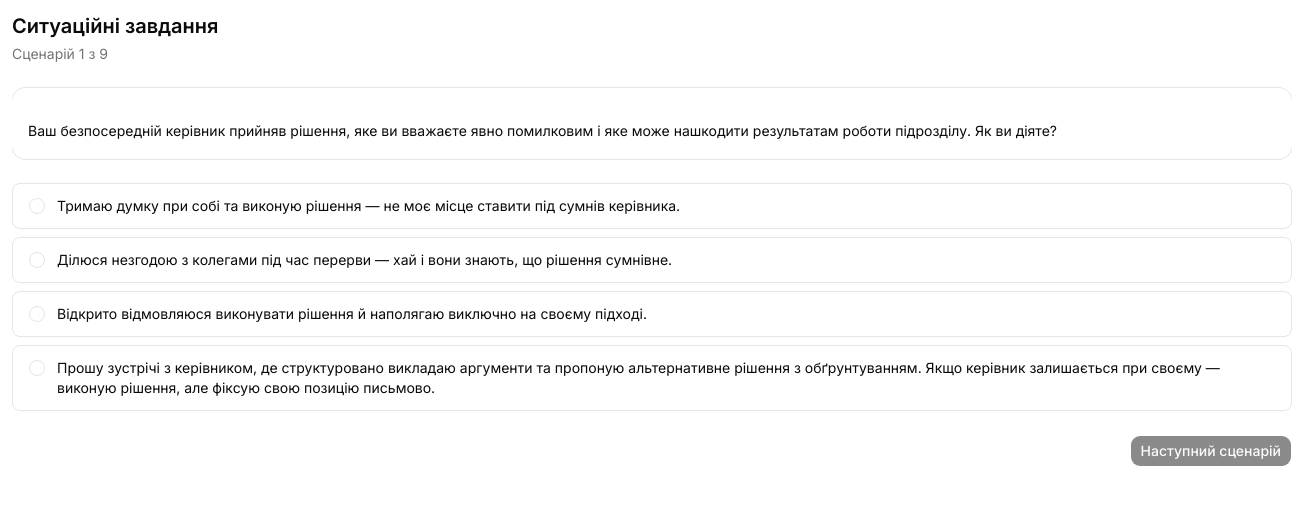
it: ScenariosBlock — navigation › advances to scenario 2 after selecting and clicking Next
The image size is (1304, 506).
What coordinates should you click on to do the following:
click the 1st radio button
I would click on:
 (37, 206)
Its box is [29,198,45,214].
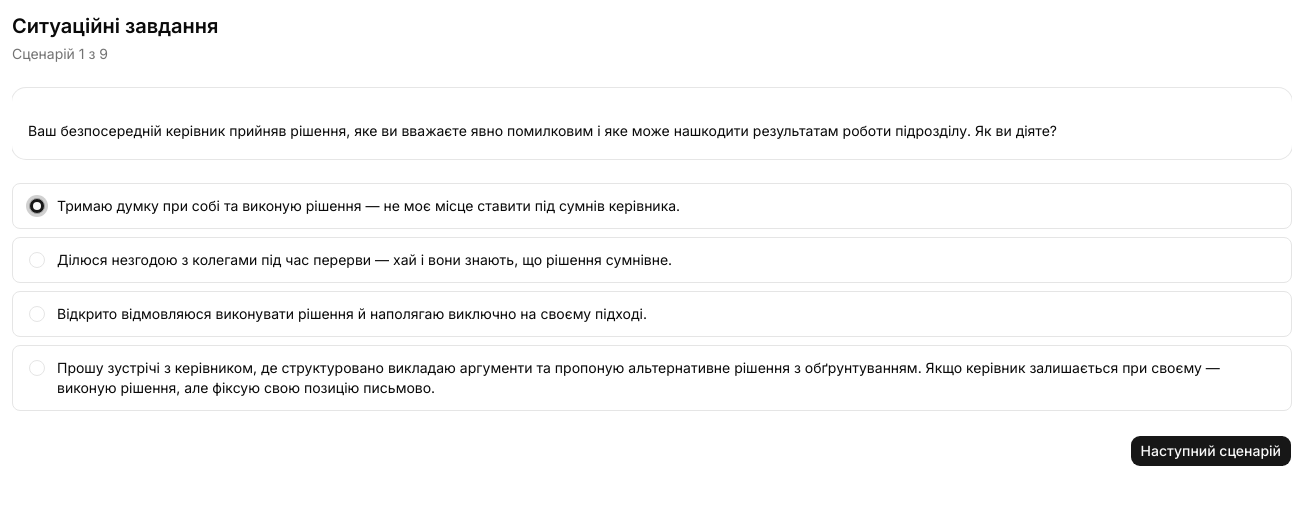
What coordinates should you click on to do the following:
click the button "Наступний сценарій"
I would click on:
 (1211, 451)
Its box is [1130,435,1292,467].
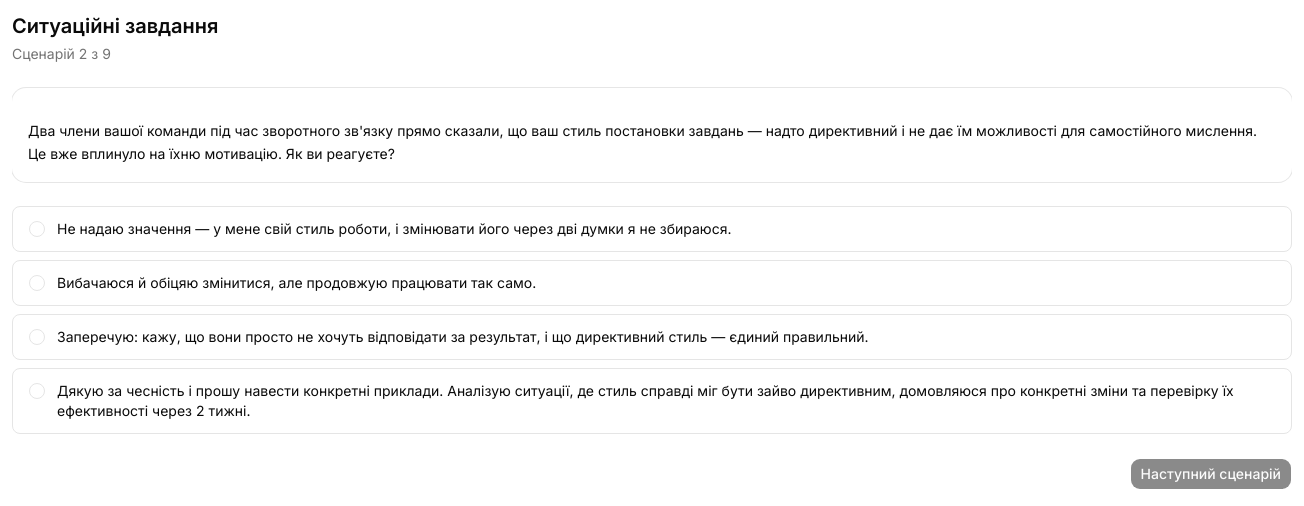
expect the text "Сценарій 2 з 9" is shown: met, box [12,45,111,62]
